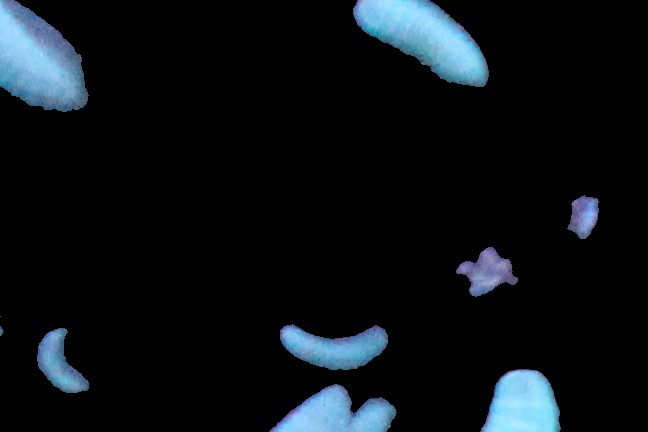larvae: (355, 1, 491, 96), (1, 1, 82, 116), (274, 323, 393, 370), (485, 363, 563, 432), (29, 322, 96, 400), (260, 377, 348, 432), (351, 393, 403, 432)
